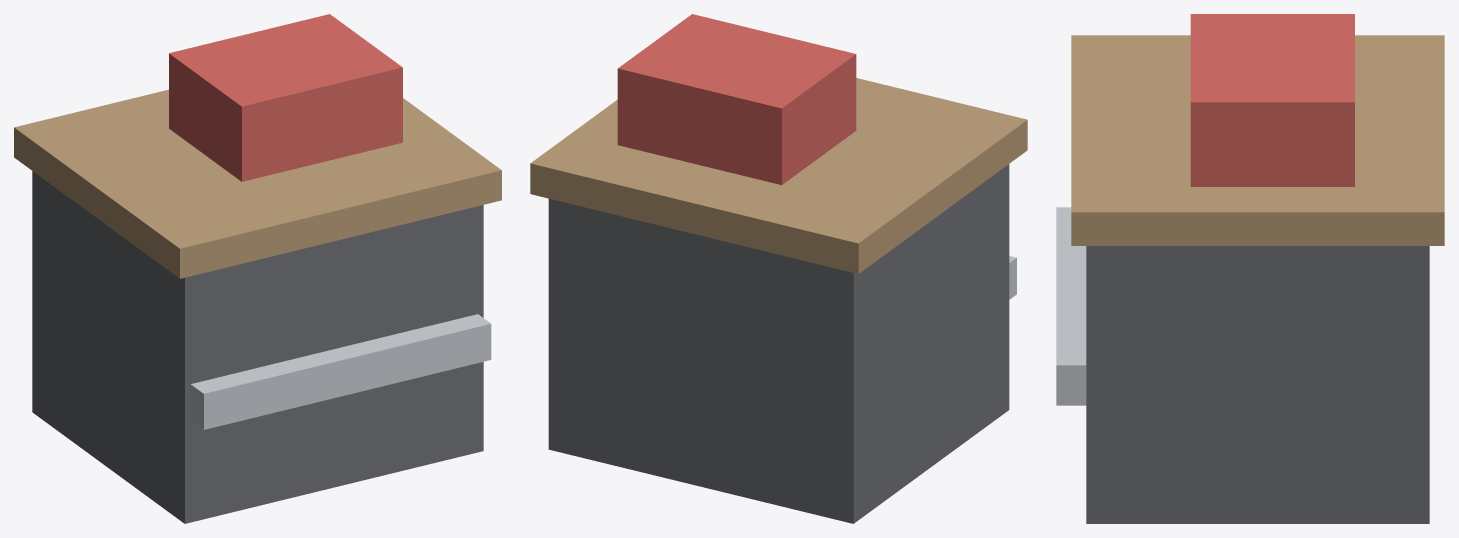
File: racecourse-and-parade-ring-bookmakers-joint-stool-1e641593__38628.glb
3 renders of one model, left to right at view 1: azimuth 30°, elevation 25°; view 2: azimuth 150°, elevation 25°; view 3: azimuth 270°, elevation 25°, orthographic. The views are drawn at different scales.
Parts seen in each view (by area): view 1: bookmakers-joint-stool; view 2: bookmakers-joint-stool; view 3: bookmakers-joint-stool.
Part boxes in pixels (bbox=[...]): bookmakers-joint-stool: bbox=[14, 14, 501, 523]; bookmakers-joint-stool: bbox=[530, 14, 1027, 523]; bookmakers-joint-stool: bbox=[1056, 14, 1444, 523].
Size of the model in its own units: 0.56 by 0.595 by 0.52.
